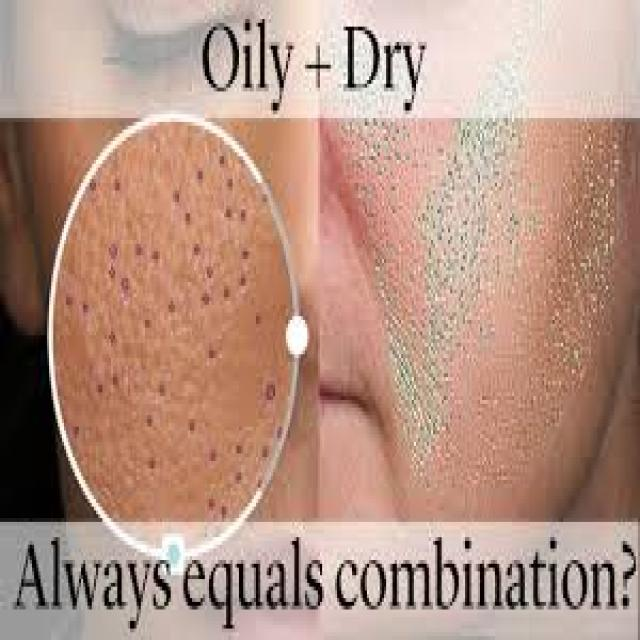Blackheads: (408, 130, 516, 409)
